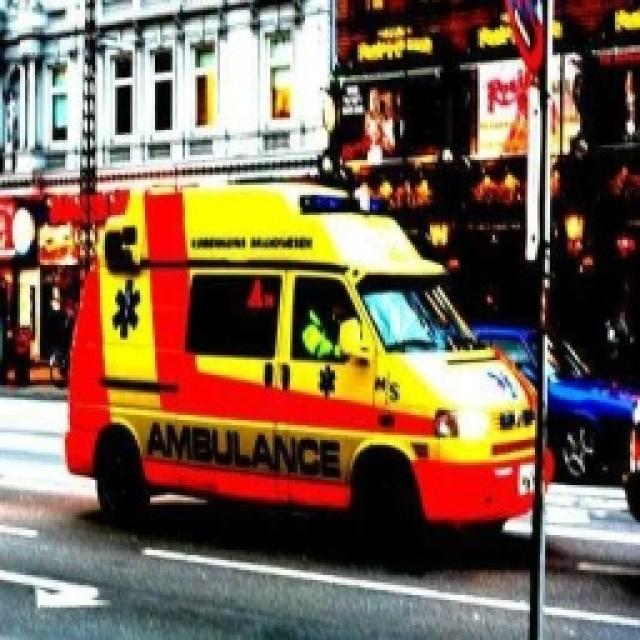emergency-vehicle: (66, 186, 551, 547)
